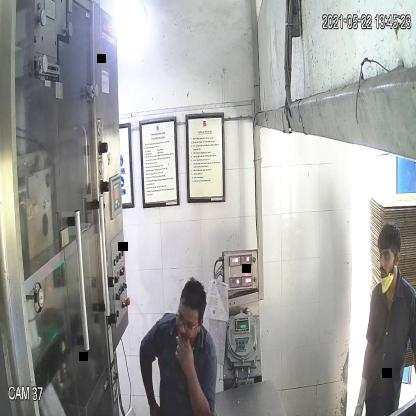goggles: (174, 312, 198, 332)
no_goggles: (376, 247, 398, 263)
